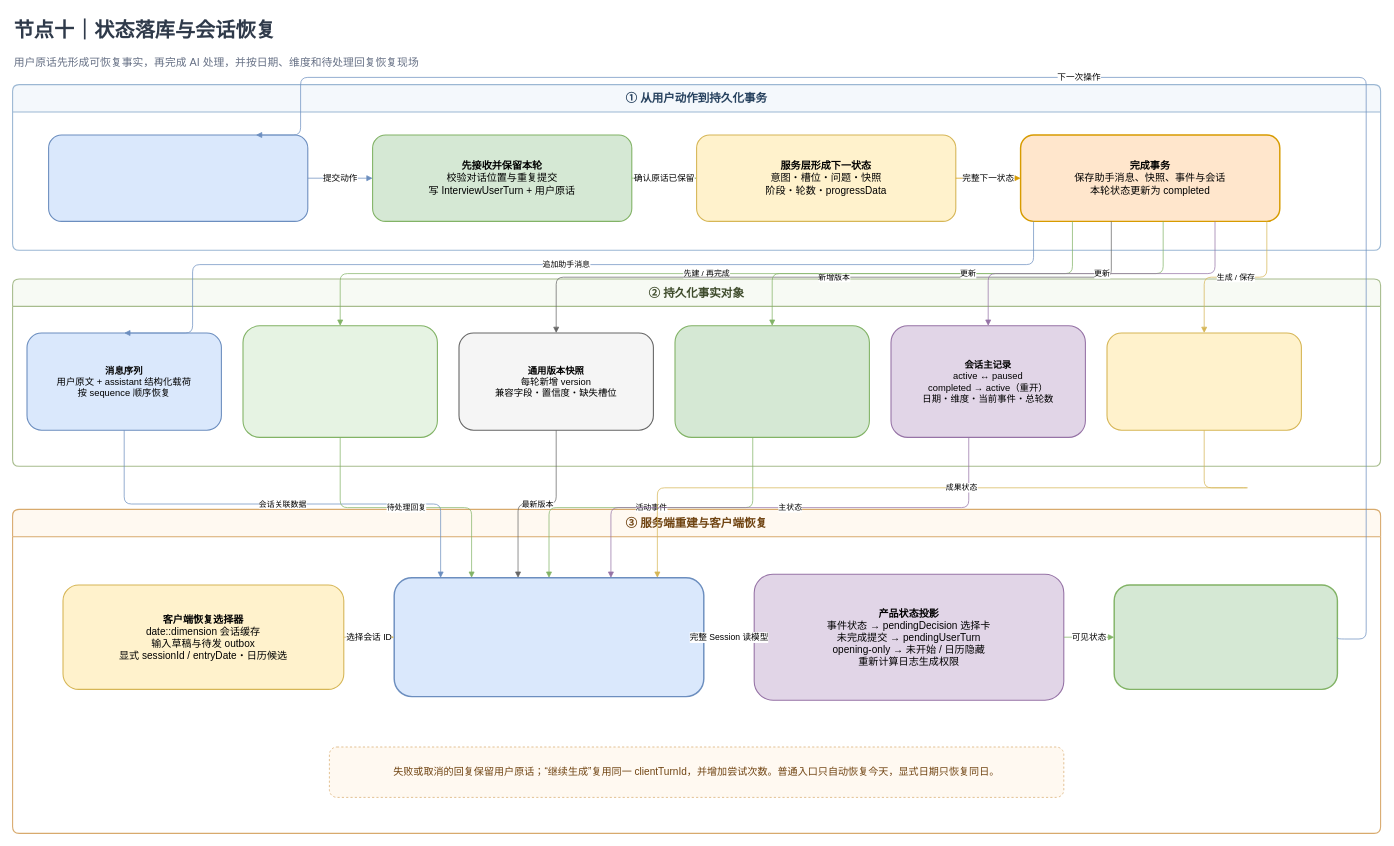
This 1394x846 diagram has some shape labels left out. The shapes that lost their labels are listed below. From the top down, each one's centre as x and y in pixels, then its label:
At pixel 178 178: "用户 / API 动作 回复・继续深挖・下一事件 页面保存输入草稿与待发 outbox".
At pixel 340 381: "用户提交记录 clientTurnId・原话・对话位置 processing / completed / failed / canceled".
At pixel 772 381: "当前事件 active ↔ ready_for_choice → completed snapshotData・progressData".
At pixel 1204 381: "日志成果 draft → saved 正式保存推动会话 finalize 关联来源事件与会话".
At pixel 548 637: "鉴权读取与会话重建 读取事件 / 消息 / 最新快照 / 日志 读取未完成的用户提交记录 合成完整 Session 读模型".
At pixel 1225 637: "界面恢复 对话・当前问题・选择卡 待处理回复与“继续生成” 日期维度・进度・日志状态".
